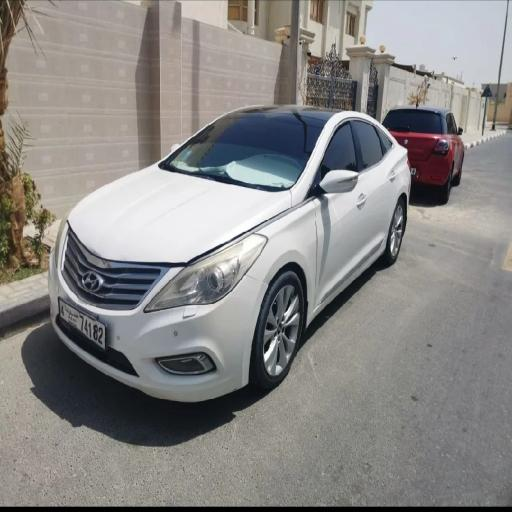license-plates: (58, 297, 105, 351)
